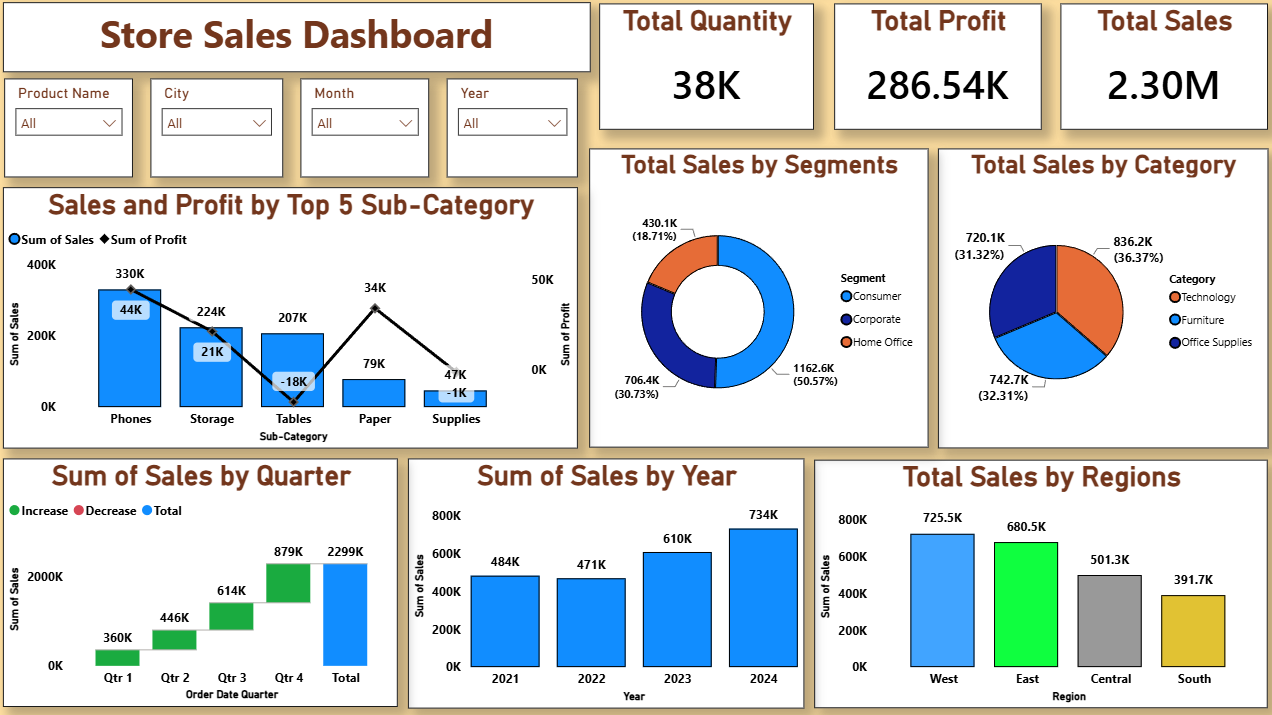

This screenshot's page, from the dashboard's own definition file:
{"tool":"powerbi","page":{"name":"Dashboard1","canvas":[1280,720],"ordinal":0},"visuals":[{"type":"textbox","box":[10,6.2,584.7,69.7],"z":0},{"type":"slicer","fields":{"Values":["Sales Overview Data xlsx - Sales Data.City"]},"box":[156.7,82.1,131.9,98.3],"z":1000},{"type":"slicer","fields":{"Values":["Sales Overview Data xlsx - Sales Data.Product Name"]},"box":[11.2,82.1,128.1,98.3],"z":2000},{"type":"slicer","fields":{"Values":["Sales Overview Data xlsx - Sales Data.Order Date.Variation.Date Hierarchy.Month"]},"box":[306,82.1,128.1,98.3],"z":3000},{"type":"slicer","fields":{"Values":["Sales Overview Data xlsx - Sales Data.Order Date.Variation.Date Hierarchy.Year"]},"box":[451.6,82.1,130.6,98.3],"z":4000},{"type":"cardVisual","title":"Total Sales","fields":{"Data":["Sum(Sales Overview Data xlsx - Sales Data.Sales)"]},"box":[1062.3,7.5,206.5,125.6],"z":5000},{"type":"cardVisual","title":"Total Profit","fields":{"Data":["Sum(Sales Overview Data xlsx - Sales Data.Profit)"]},"box":[837.2,7.5,206.5,125.6],"z":6000},{"type":"cardVisual","title":"Total Quantity","fields":{"Data":["Sum(Sales Overview Data xlsx - Sales Data.Quantity)"]},"box":[603.3,7.5,214,125.6],"z":7000},{"type":"pieChart","title":"Total Sales by Category","fields":{"Y":["Sum(Sales Overview Data xlsx - Sales Data.Sales)"],"Category":["Sales Overview Data xlsx - Sales Data.Category"]},"box":[940.4,151.8,328.4,298.6],"z":8000},{"type":"lineStackedColumnComboChart","title":"Total Sales by Regions","fields":{"Category":["Sales Overview Data xlsx - Sales Data.Region"],"Y":["Sum(Sales Overview Data xlsx - Sales Data.Sales)"]},"box":[817.3,461.5,451.6,247.5],"z":9000},{"type":"donutChart","title":"Total Sales by Segments","fields":{"Y":["Sum(Sales Overview Data xlsx - Sales Data.Sales)"],"Category":["Sales Overview Data xlsx - Sales Data.Segment"]},"box":[592.8,152.3,337.6,297.8],"z":10000},{"type":"lineClusteredColumnComboChart","title":"Sales and Profit by Top 5 Sub-Category","fields":{"Category":["Sales Overview Data xlsx - Sales Data.Sub-Category"],"Y":["Sum(Sales Overview Data xlsx - Sales Data.Sales)"],"Y2":["Sum(Sales Overview Data xlsx - Sales Data.Profit)"]},"box":[10,190.3,572.2,260],"z":11000},{"type":"clusteredColumnChart","fields":{"Y":["Sum(Sales Overview Data xlsx - Sales Data.Sales)"],"Category":["Sales Overview Data xlsx - Sales Data.Order Date.Variation.Date Hierarchy.Year"]},"box":[413,460.3,394.3,248.8],"z":12000},{"type":"waterfallChart","fields":{"Y":["Sum(Sales Overview Data xlsx - Sales Data.Sales)"],"Category":["Sales Overview Data xlsx - Sales Data.Order Date.Variation.Date Hierarchy.Quarter"]},"box":[10,460.3,393.1,247.5],"z":13000}]}

Visuals, with their boxes in screenshot pixels (x1, y1, x2, y2), scaled from the page's 1280x720 canvas onto the 1272x715 screenshot:
textbox: bbox(10, 6, 591, 75)
slicer - Sales Overview Data xlsx - Sales Data.City: bbox(156, 82, 287, 179)
slicer - Sales Overview Data xlsx - Sales Data.Product Name: bbox(11, 82, 138, 179)
slicer - Sales Overview Data xlsx - Sales Data.Order Date.Variation.Date Hierarchy.Month: bbox(304, 82, 431, 179)
slicer - Sales Overview Data xlsx - Sales Data.Order Date.Variation.Date Hierarchy.Year: bbox(449, 82, 579, 179)
"Total Sales" cardVisual: bbox(1056, 7, 1261, 132)
"Total Profit" cardVisual: bbox(832, 7, 1037, 132)
"Total Quantity" cardVisual: bbox(600, 7, 812, 132)
"Total Sales by Category" pieChart: bbox(935, 151, 1261, 447)
"Total Sales by Regions" lineStackedColumnComboChart: bbox(812, 458, 1261, 704)
"Total Sales by Segments" donutChart: bbox(589, 151, 925, 447)
"Sales and Profit by Top 5 Sub-Category" lineClusteredColumnComboChart: bbox(10, 189, 579, 447)
clusteredColumnChart - Sum(Sales Overview Data xlsx - Sales Data.Sales) x Sales Overview Data xlsx - Sales Data.Order Date.Variation.Date Hierarchy.Year: bbox(410, 457, 802, 704)
waterfallChart - Sum(Sales Overview Data xlsx - Sales Data.Sales) x Sales Overview Data xlsx - Sales Data.Order Date.Variation.Date Hierarchy.Quarter: bbox(10, 457, 401, 703)
